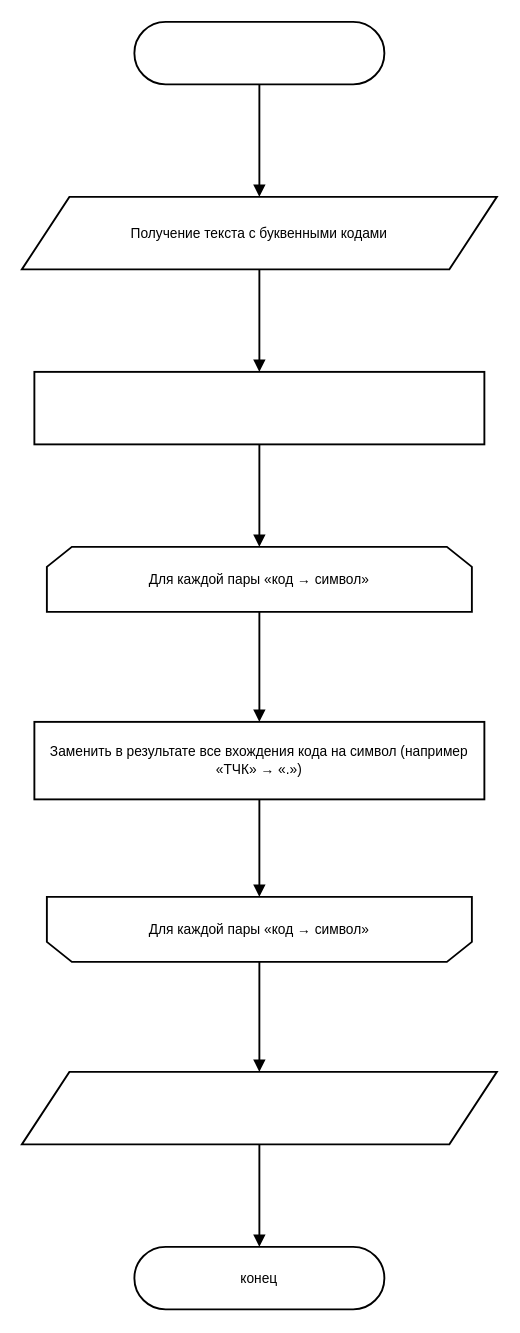
The diagram is 520 pixels wide and 1333 high, and some of its shapes have lost their labels. The shapes that lost their labels are listed below. From the top down, each one's box as (x1, y1, x2, y2) in pixels, then its label:
(133, 20, 385, 85): начало
(33, 370, 485, 445): Копирование текста в результат
(20, 1070, 497, 1145): Возврат восстановленного текста
